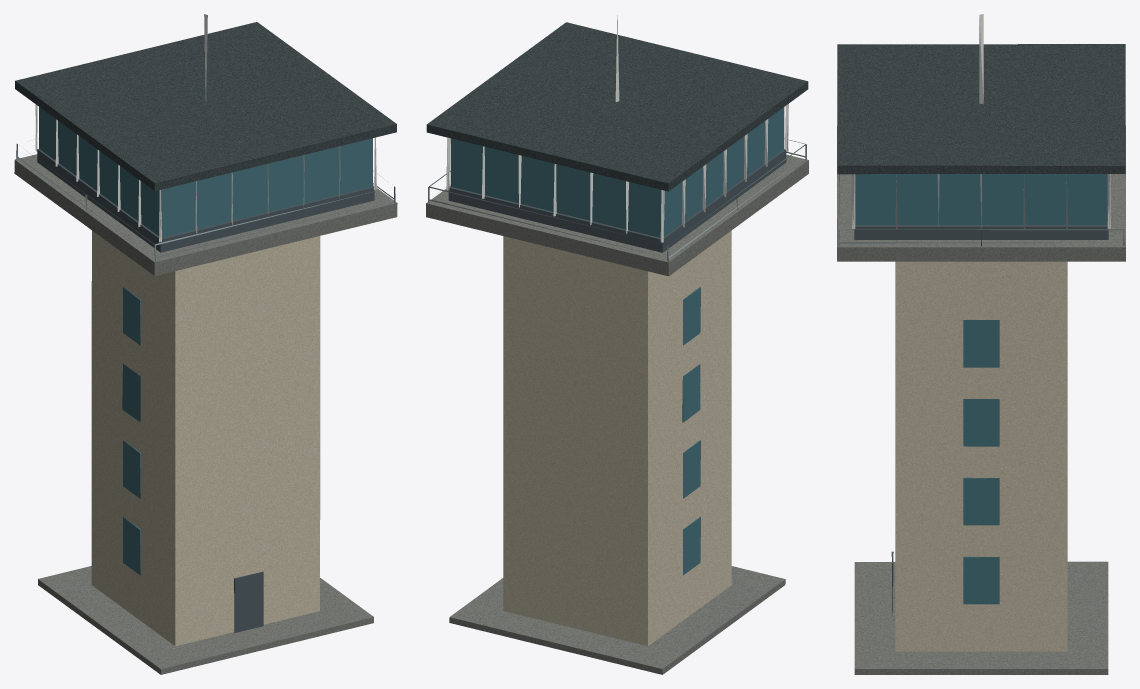
The model's file is ControlTower_23m_LOD2.glb.
3 renders of one model, left to right at view 1: azimuth 30°, elevation 25°; view 2: azimuth 150°, elevation 25°; view 3: azimuth 270°, elevation 25°, orthographic. The views are drawn at different scales.
Visible parts, largest first — view 1: ControlTower_23m_export; view 2: ControlTower_23m_export; view 3: ControlTower_23m_export.
Part boxes in pixels (left/top/right/bottom): ControlTower_23m_export: left=14, top=14, right=397, bottom=674; ControlTower_23m_export: left=426, top=15, right=808, bottom=674; ControlTower_23m_export: left=837, top=14, right=1125, bottom=674.
Bounding box in the file's own units: 9.95 × 23.1 × 9.95.
Materials: 7 (3 with a texture image).
